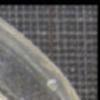white: (0, 93, 10, 100)
